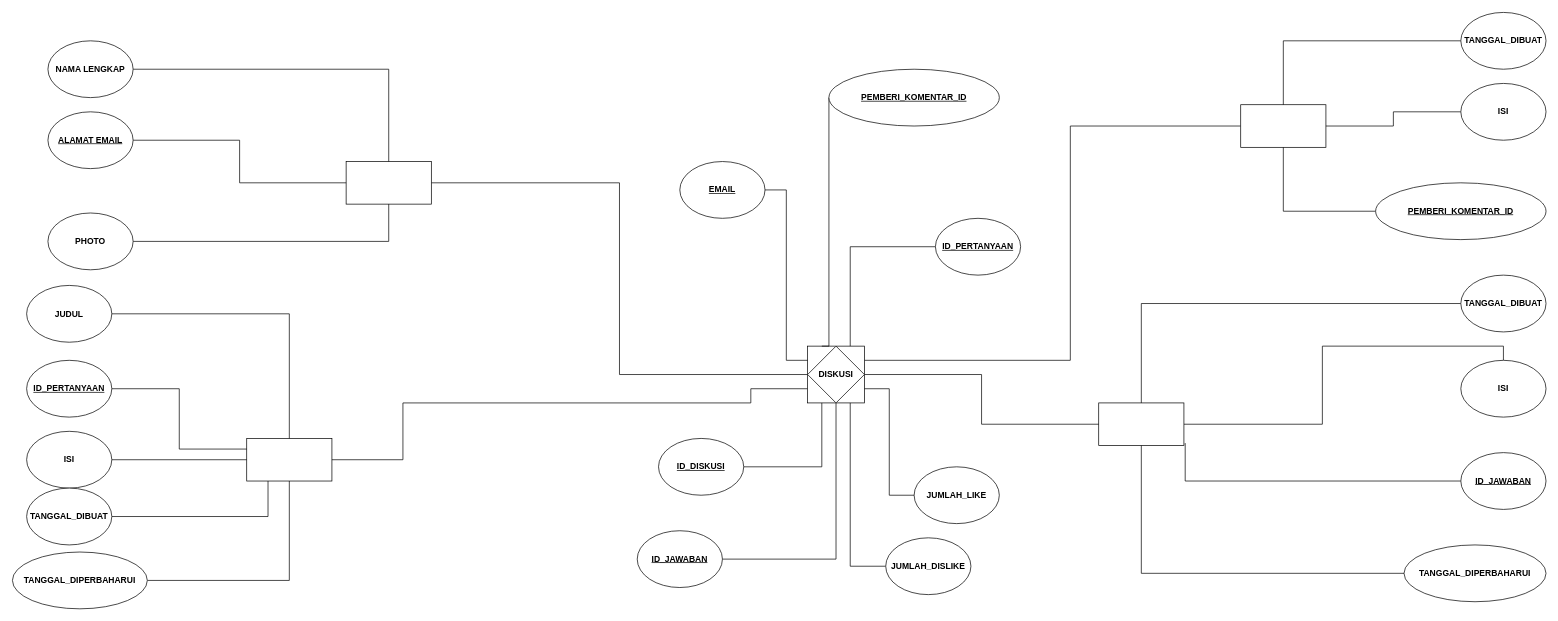
Some shapes in this 1558 by 621 pixel diagram are drawn without their labels. The shapes that lost their labels are listed below. From the top down, each one's box as (x1, y1, x2, y2) in pixels, then its label:
(1240, 104, 1326, 147): KOMENTAR
(345, 161, 431, 204): PROFILE
(1098, 402, 1184, 446): JAWABAN
(246, 438, 332, 481): PERTANYAAN
